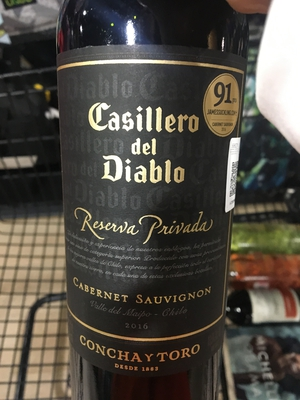casillero del diablo reserva privada cabernet sauvignon: (43, 12, 253, 379)
